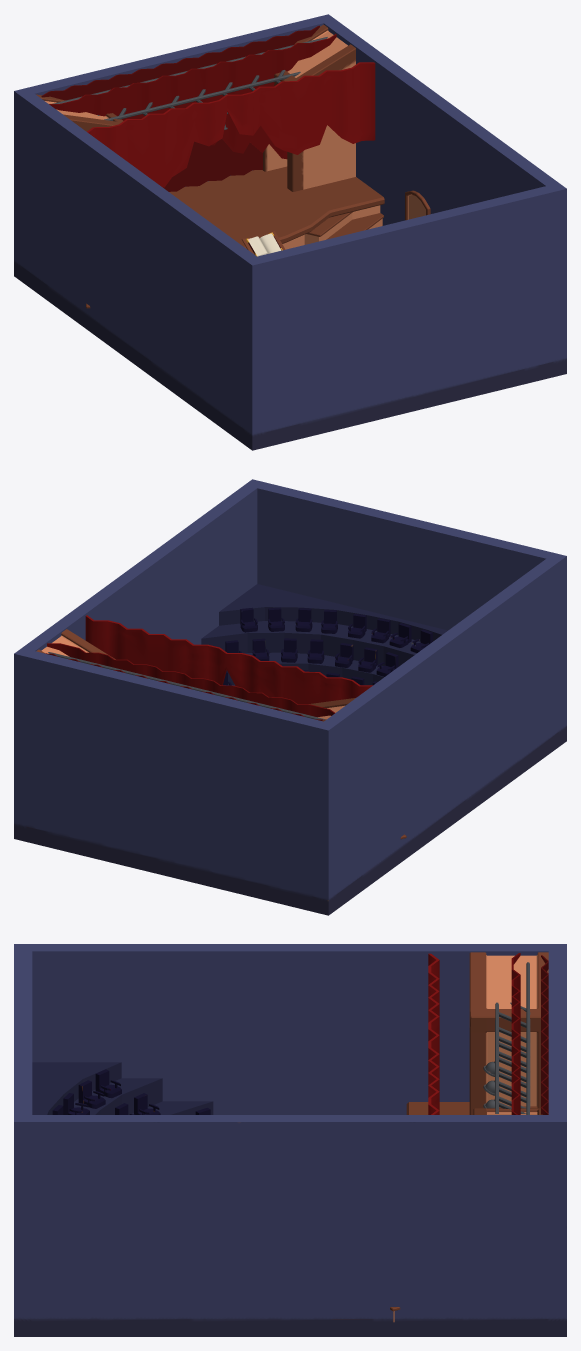
3 renders of one model, top to bottom at view 1: azimuth 30°, elevation 25°; view 2: azimuth 150°, elevation 25°; view 3: azimuth 270°, elevation 25°, orthographic. The views are drawn at different scales.
Parts seen in each view (by area): view 1: walls, curtain_front, stage1, curtain_medium, curtain_back, house_right, stage_stair_right, metal_bar_big1, house_left, door; view 2: walls, pCube1, curtain_front, curtain_medium, metal_bar_big, house_right; view 3: walls, house_left, pCube1, curtain_front, curtain_medium, curtain_back, stage1, metal_bar_big, chair_sample40, chair_sample39.
Part boxes in pixels (x1,y1,x2,y2): walls: (14,14,566,450); curtain_front: (87,62,375,187); stage1: (169,166,384,249); curtain_medium: (49,34,336,159); curtain_back: (41,25,319,191); house_right: (263,24,355,191); stage_stair_right: (304,212,383,244); metal_bar_big1: (104,71,300,120); house_left: (36,94,123,131); door: (405,190,430,220); walls: (14,479,566,915); pCube1: (201,584,447,685); curtain_front: (85,615,372,704); curtain_medium: (47,643,334,717); metal_bar_big: (48,652,324,719); house_right: (36,629,115,659); walls: (14,944,566,1336); house_left: (469,952,548,1114); pCube1: (32,1062,213,1114); curtain_front: (428,953,439,1114); curtain_medium: (511,953,520,1114); curtain_back: (541,955,548,1114); stage1: (406,1102,537,1114); metal_bar_big: (526,962,529,1114); chair_sample40: (95,1069,121,1098); chair_sample39: (78,1080,105,1108).
Bounding box in the file's own units: 16.31 × 9 × 21.
Materials: 1 (1 with a texture image).
